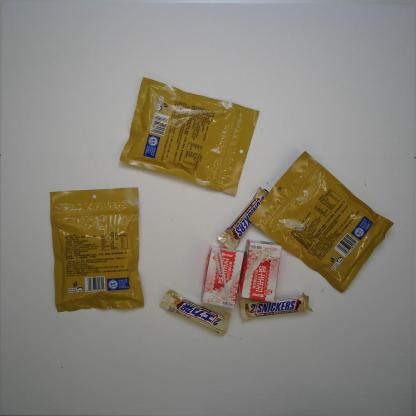Chocolate: (214, 184, 274, 252), (158, 288, 232, 338), (237, 292, 314, 322)
Dried Fruit: (246, 148, 398, 294), (118, 76, 262, 198), (48, 186, 145, 314)
Milk: (237, 236, 283, 302), (198, 246, 244, 312)
